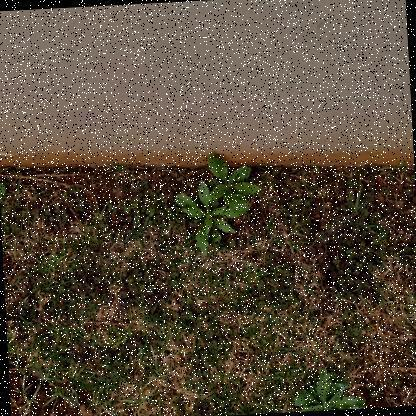Weeds: (172, 179, 249, 258), (202, 149, 262, 213), (292, 367, 371, 411)
